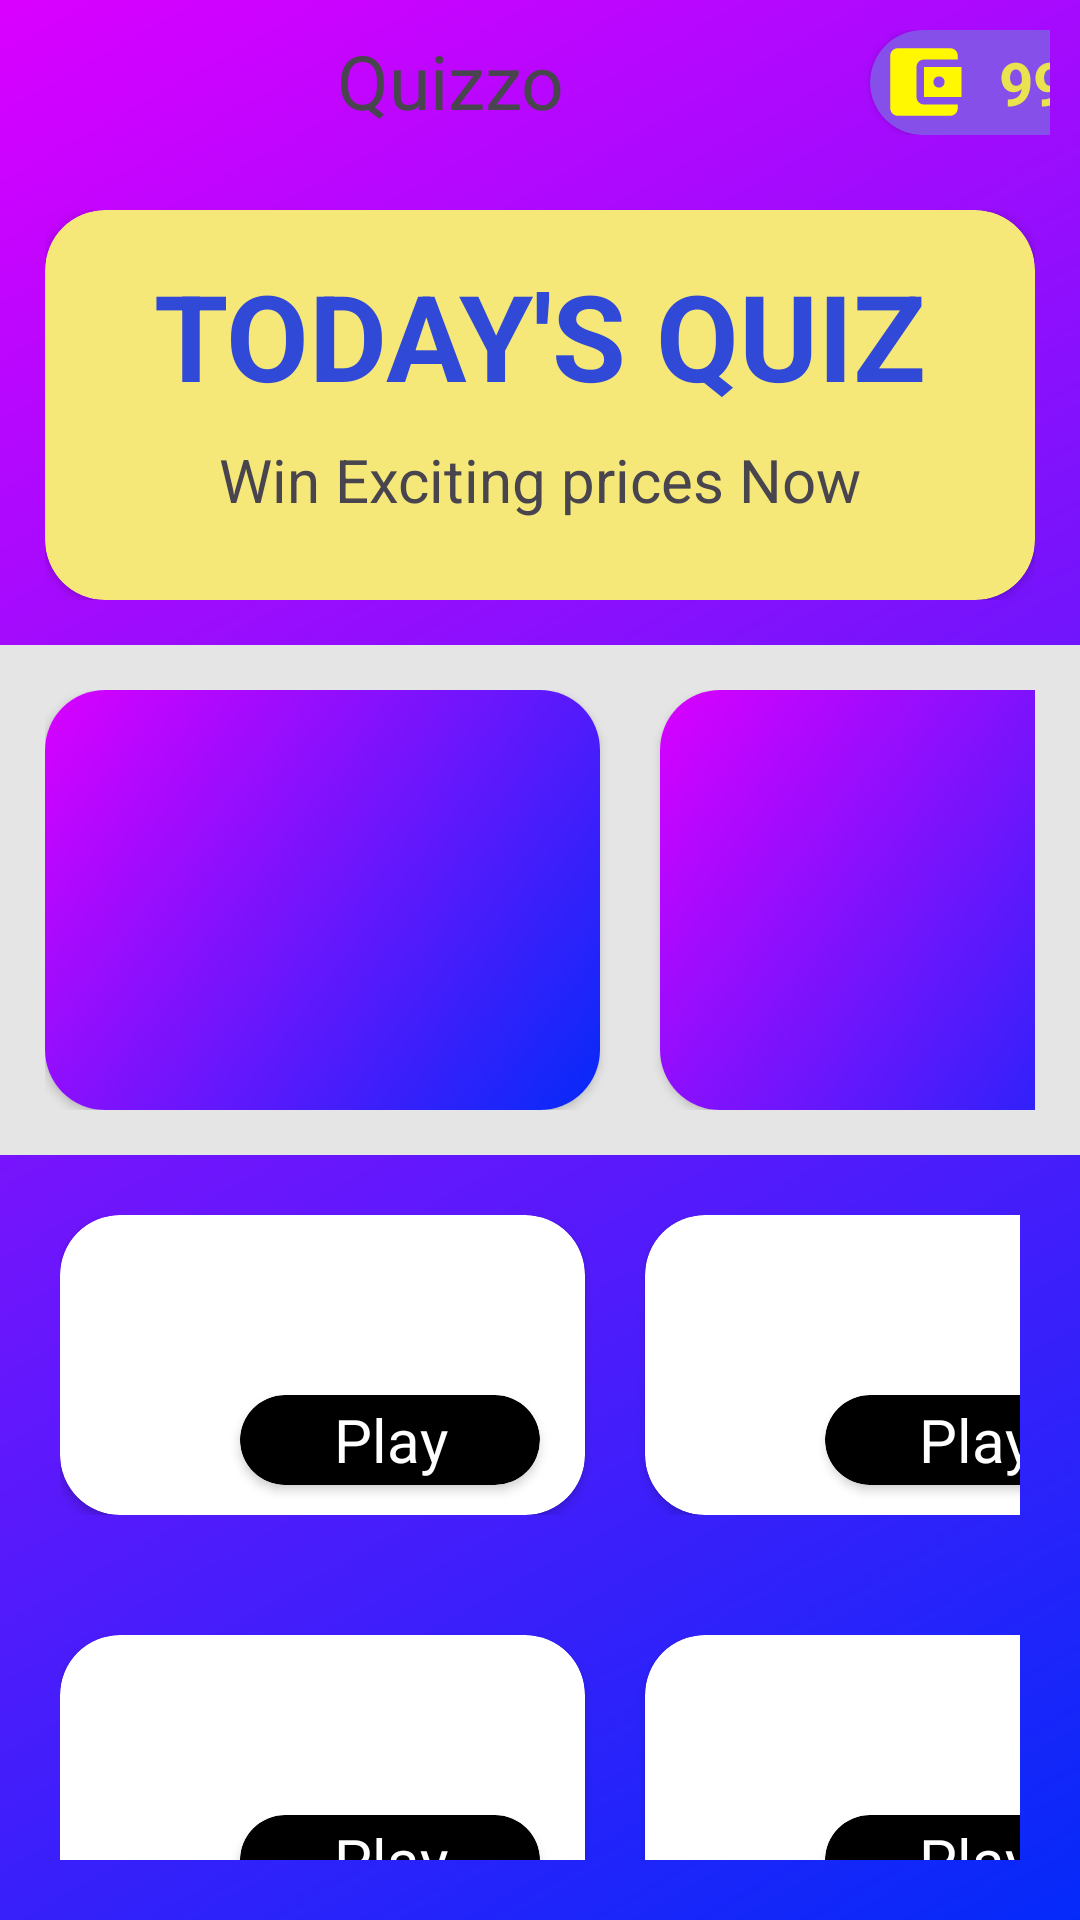

Locate icon controls on the screen. Image size 1080x1920, boxes as (x1, y1, x2, y2).
account balance wallet: (890, 48, 962, 116)
